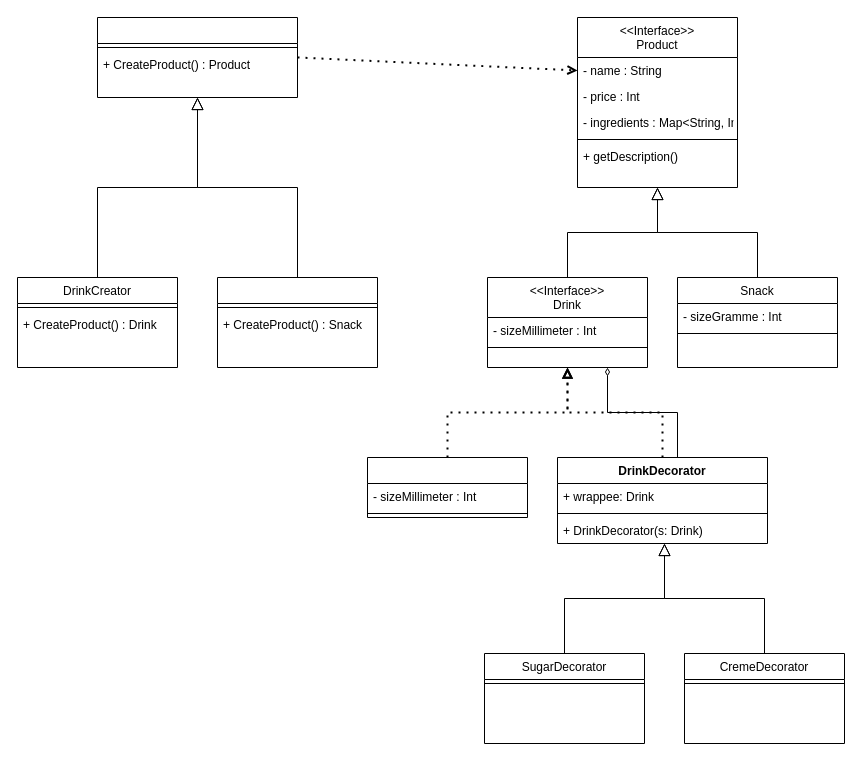
The diagram is 862 pixels wide and 761 high, and some of its shapes have lost their labels. Here are the shapes that lost their labels. From the top down, the box of each, then its label:
(96, 16, 298, 98): FoodCreator
(216, 276, 378, 368): SnackCreator
(366, 456, 528, 518): ConcreteDrink
